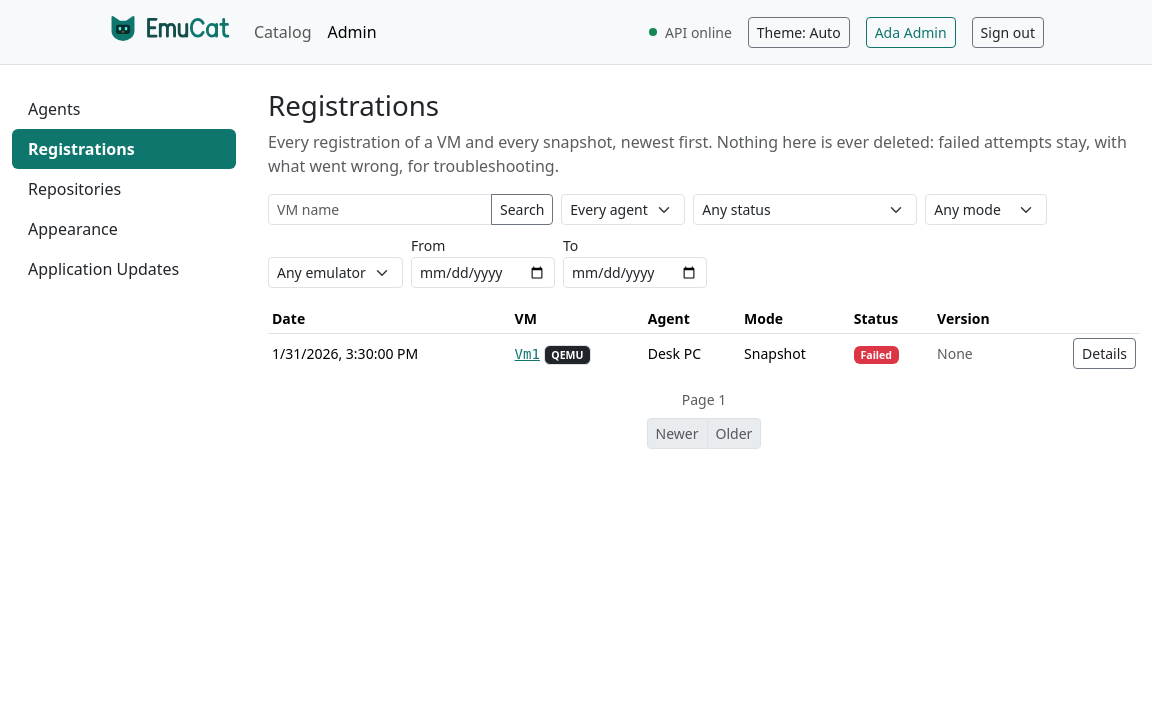
it: the registration history page › opens an operation’s details, with its error and what to do
The width and height of the screenshot is (1152, 720).
Click the button "Details": (1104, 354) [1073, 338, 1136, 369]
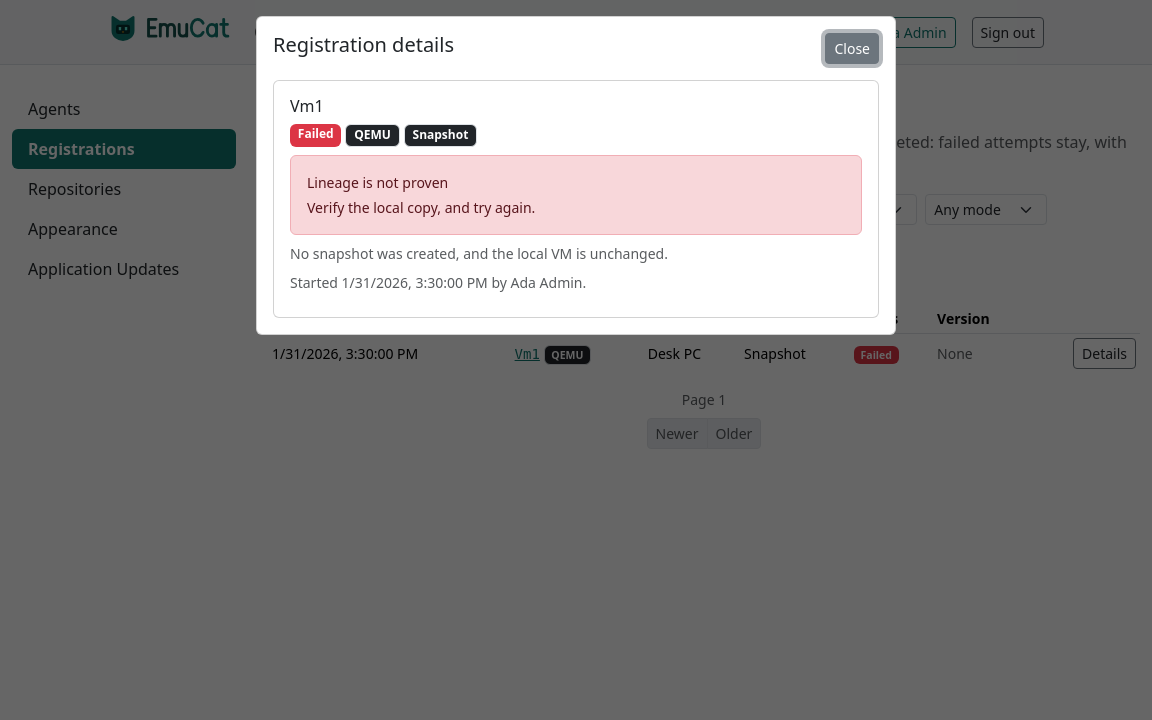
Expected: the message shows "Lineage is not proven", [307, 173, 448, 192]
Expected: the message shows "Verify the local copy", [307, 198, 535, 217]
Expected: the text "No snapshot was created, and the local VM is unchanged." is shown, [290, 244, 668, 263]
